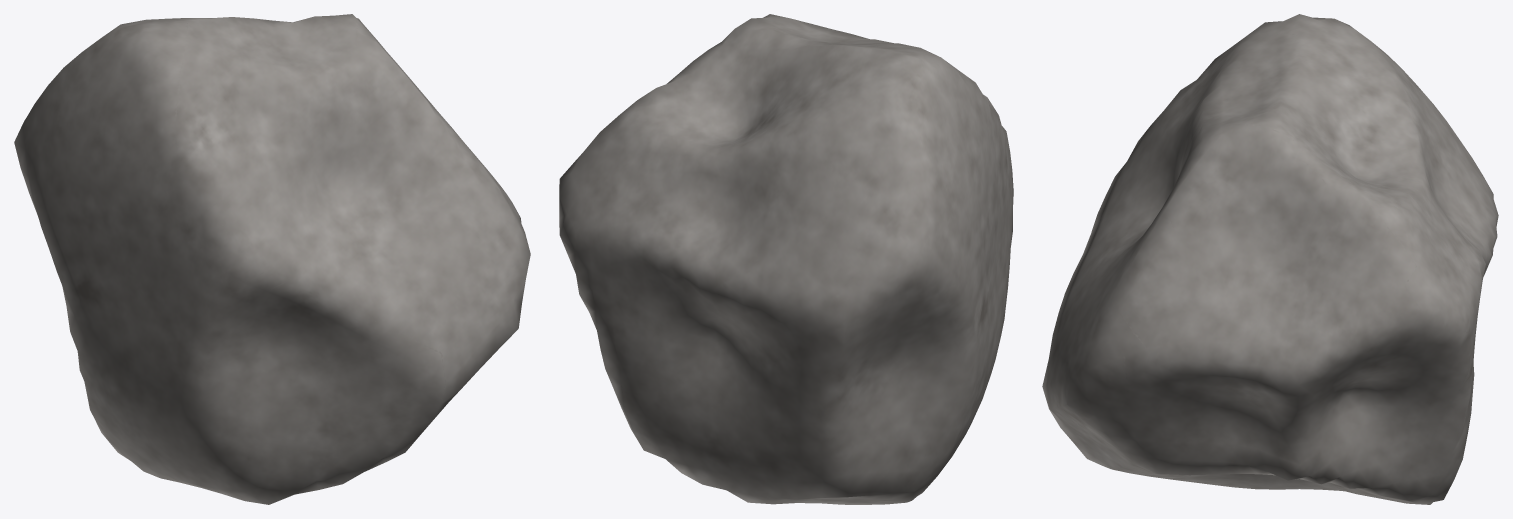
The model's file is Rock2.fbx.
The picture shows the model from 3 angles, left to right: view 1: azimuth 30°, elevation 25°; view 2: azimuth 150°, elevation 25°; view 3: azimuth 270°, elevation 25°; orthographic projection.
Parts seen in each view (by area): view 1: Sphere_1; view 2: Sphere_1; view 3: Sphere_1.
Boxes of the visible parts, x1,y1,x2,y2 form: Sphere_1: (14, 14, 530, 504); Sphere_1: (559, 14, 1013, 504); Sphere_1: (1042, 14, 1498, 504).
Size of the model in its own units: 210 by 227 by 210.
1 material, 1 textured.
